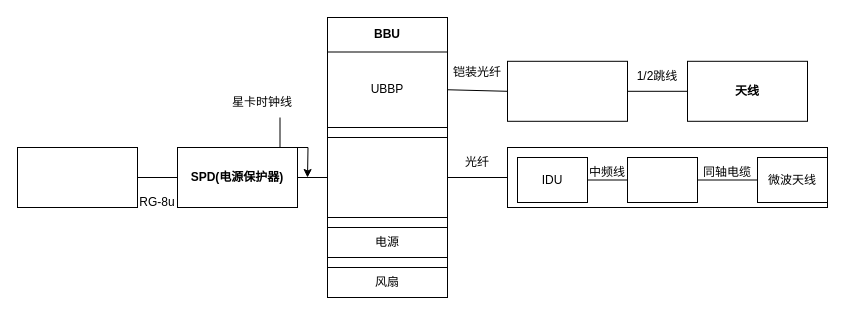
This 845x315 diagram has some shape labels left out. The centre of each missing label's shape, as x and y in pixels:
"GPS" belongs at pixel 77 177.
"ODU" belongs at pixel 662 179.
"RRU" belongs at pixel 567 90.
"UMPT" belongs at pixel 387 177.
